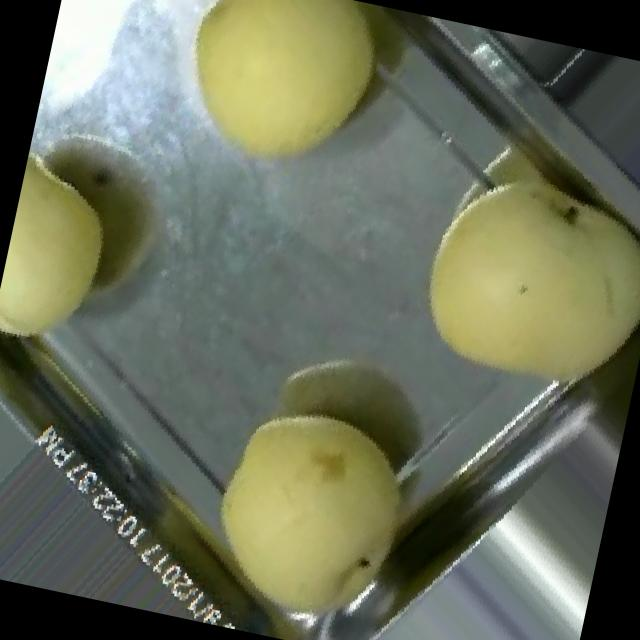Fruit: (164, 369, 462, 640), (377, 135, 640, 428), (143, 0, 412, 209), (0, 122, 152, 388)
